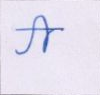i_matra: (36, 15, 54, 53)
